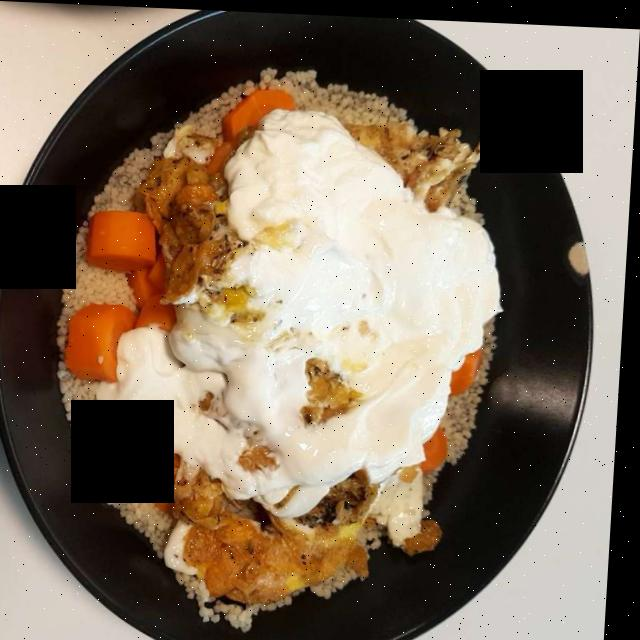curd: (117, 98, 504, 518)
